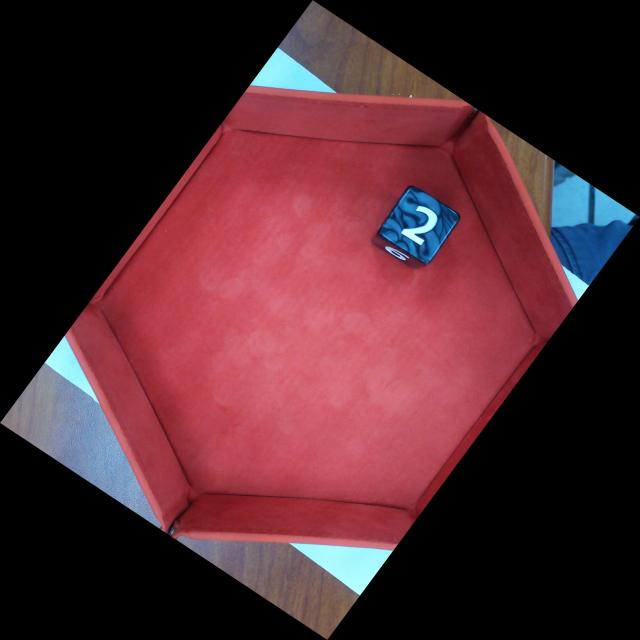dice: (377, 185, 461, 265)
